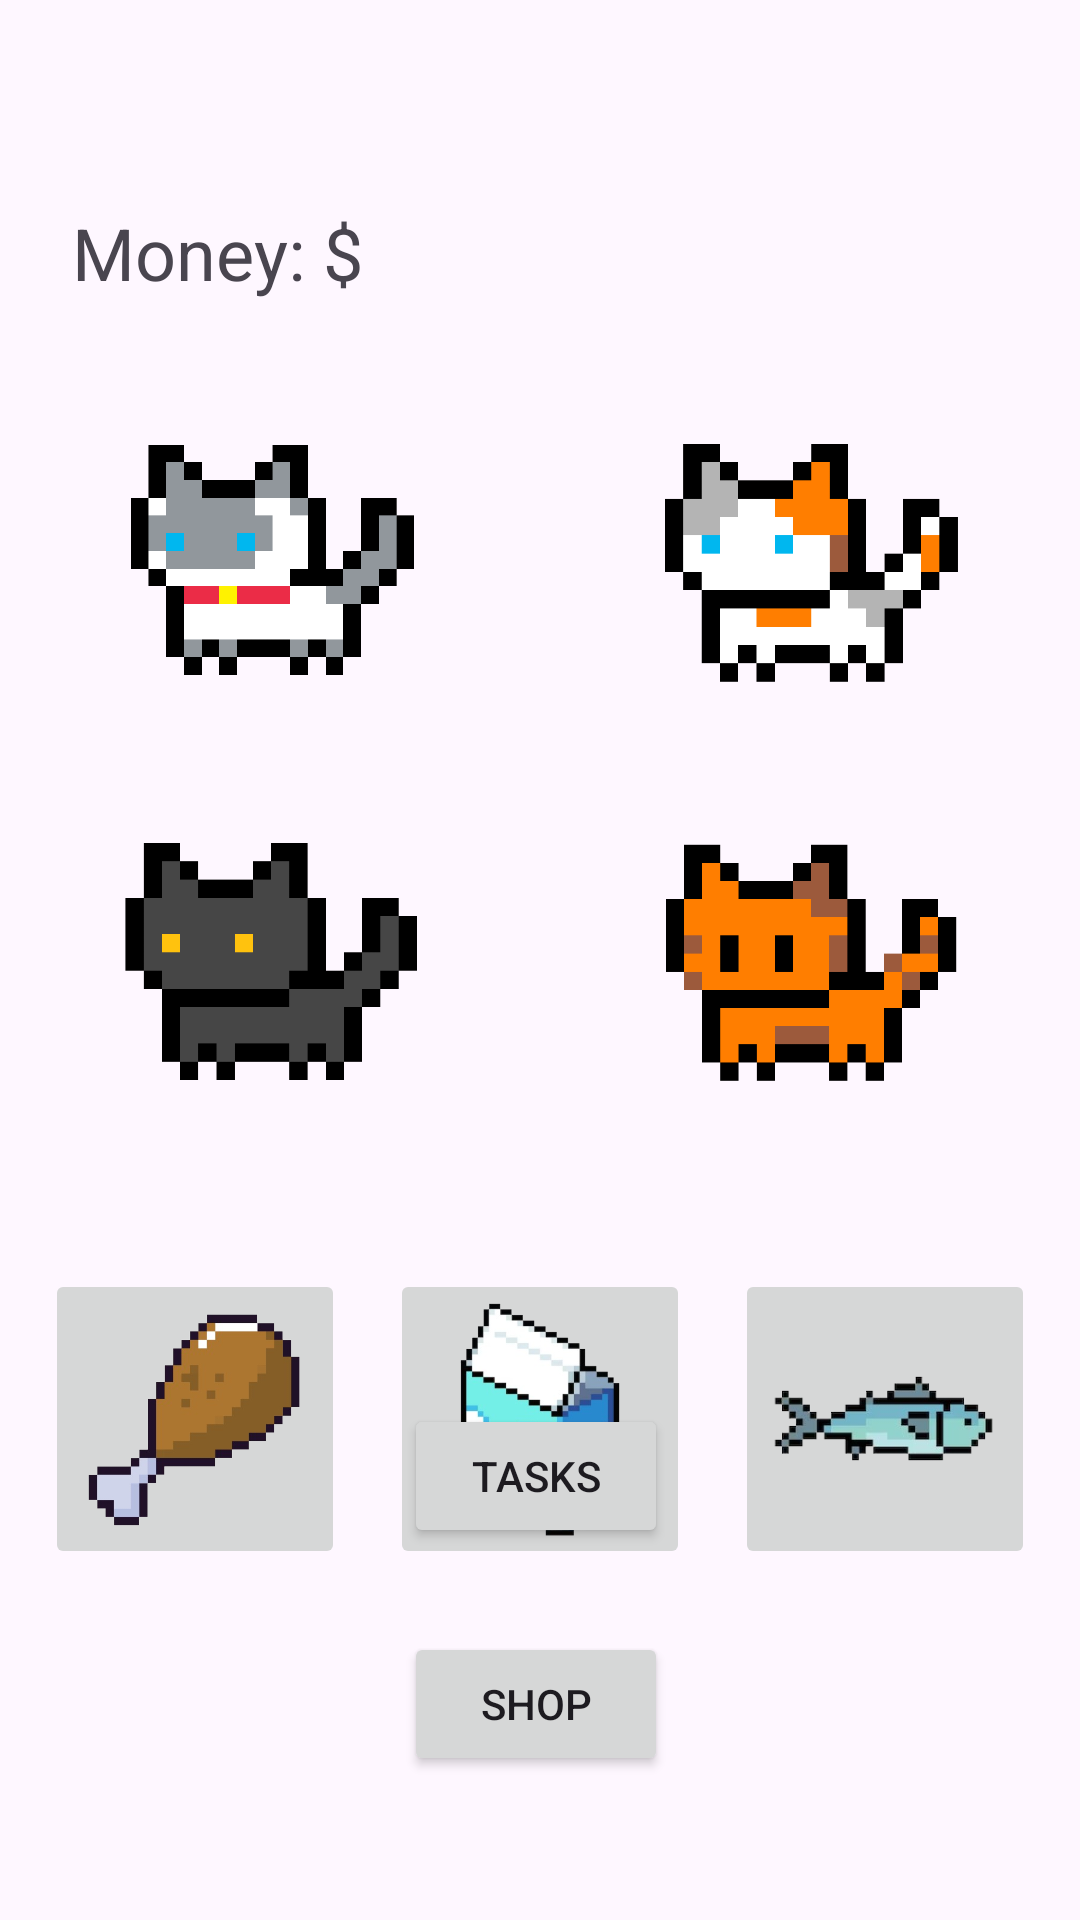

Where to tap for icons on this 1080w x 1920h app screen, as point (x, y):
calico cat: point (811, 563)
cat: point (272, 560), point (271, 961), point (811, 962)
chicken leg: point (195, 1419)
tuna fish: point (885, 1419)
